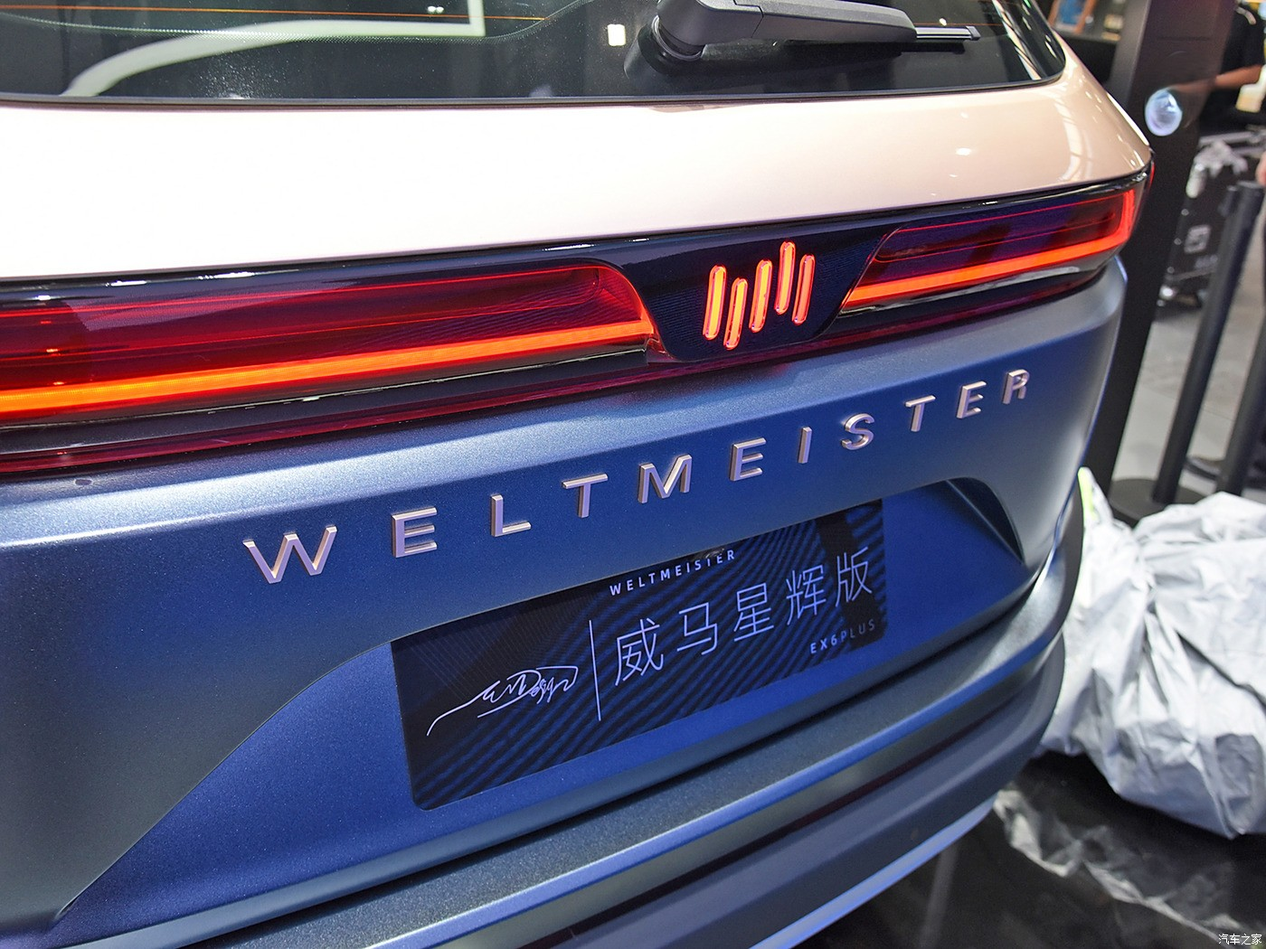WELTMEISTER: (704, 241, 814, 349)
